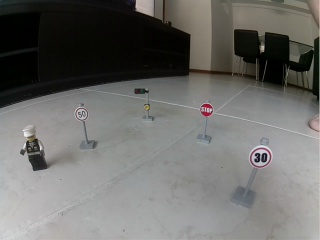Person: (20, 125, 50, 173)
Red Traffic Light: (133, 87, 155, 122)
Speed Limit 30: (249, 146, 272, 167)
Speed Limit 50: (74, 108, 89, 121)
Stop Sign: (200, 103, 214, 117)
